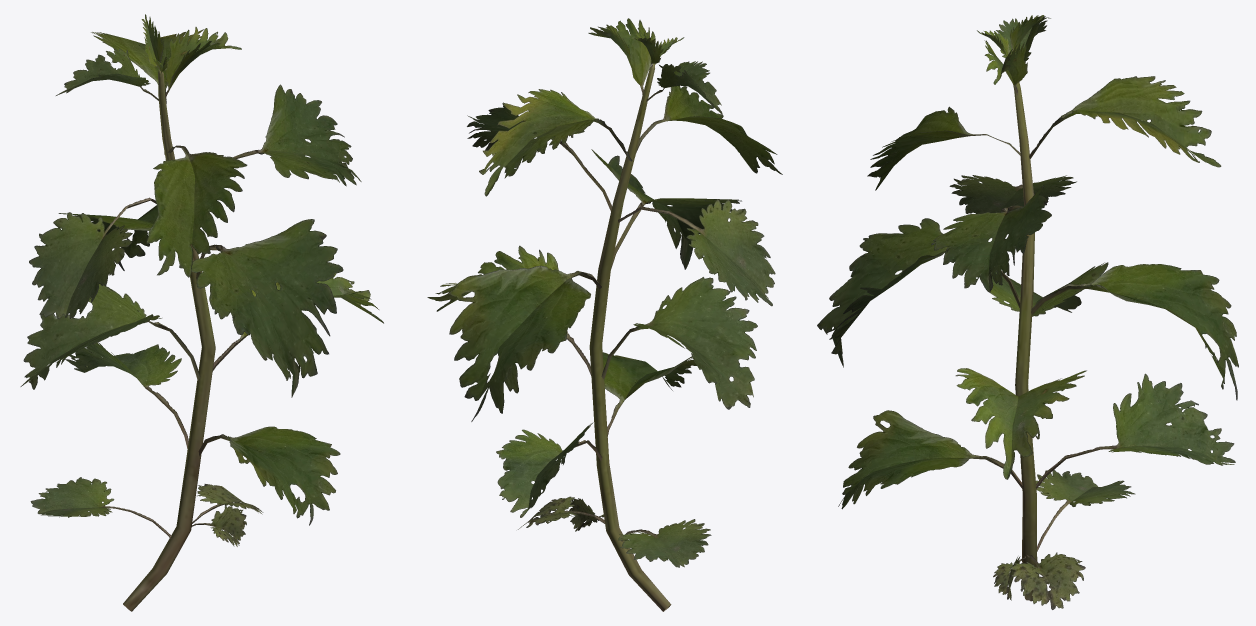
The model's file is nettle_plant_medium_b_LOD1.glb.
3 renders of one model, left to right at view 1: azimuth 30°, elevation 25°; view 2: azimuth 150°, elevation 25°; view 3: azimuth 270°, elevation 25°, orthographic. The views are drawn at different scales.
Visible parts, largest first — view 1: nettle_plant_medium_b_LOD1__lod0; view 2: nettle_plant_medium_b_LOD1__lod0; view 3: nettle_plant_medium_b_LOD1__lod0.
Boxes of the visible parts, <box> form: nettle_plant_medium_b_LOD1__lod0: <box>20,14,383,611</box>; nettle_plant_medium_b_LOD1__lod0: <box>427,18,782,611</box>; nettle_plant_medium_b_LOD1__lod0: <box>817,15,1238,609</box>.
Size of what is drawn, in the model's own units: 0.0666 by 0.1048 by 0.068.
Materials: 1 (1 with a texture image).
